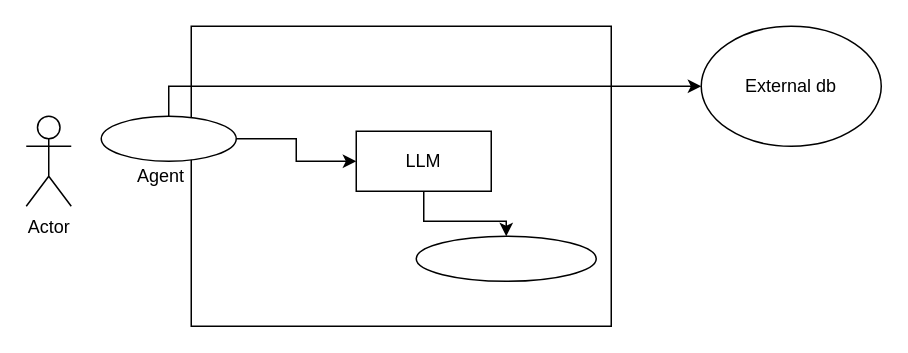
The diagram is 908 pixels wide and 353 high, and some of its shapes have lost their labels. The shapes that lost their labels are listed below. From the top down, each one's centre as x and y in pixels, then its label:
the point at 168,138: ChatBot
the point at 505,258: Company KB
